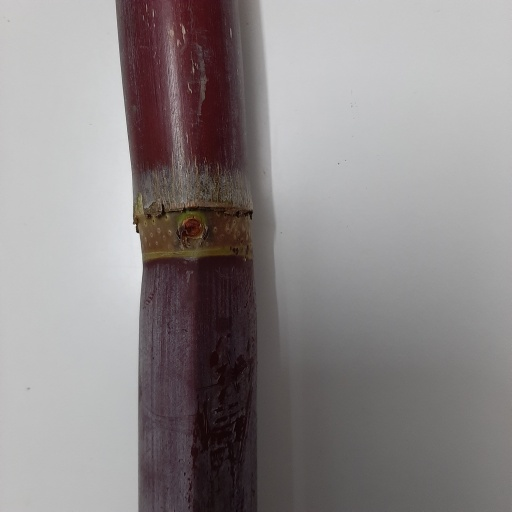Damage_Bud: (177, 215, 208, 249)
